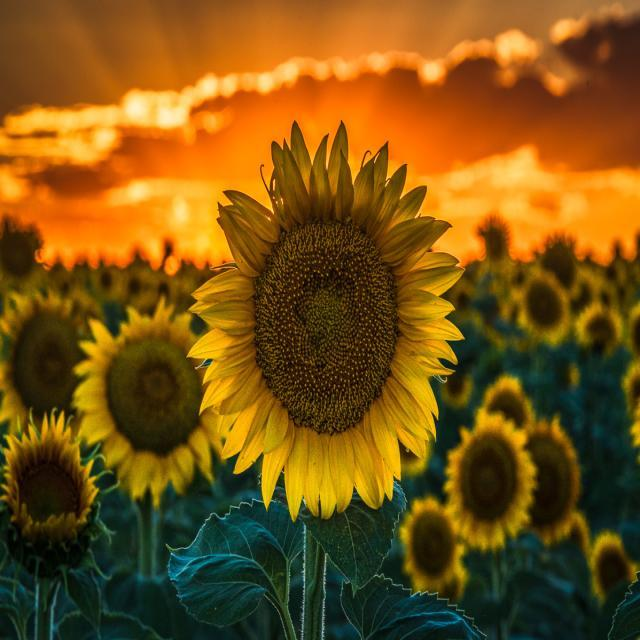sunflower: (185, 118, 466, 522), (70, 294, 224, 508), (0, 286, 97, 436), (0, 407, 99, 550), (443, 408, 538, 551), (522, 416, 582, 546), (398, 496, 467, 602), (513, 269, 570, 345), (588, 530, 636, 602), (481, 374, 534, 431), (576, 302, 622, 356), (394, 416, 432, 476), (476, 210, 512, 260), (541, 236, 576, 286), (622, 358, 640, 448), (566, 270, 594, 314), (439, 371, 471, 408), (122, 268, 150, 308), (148, 272, 177, 310), (446, 278, 474, 315), (91, 266, 122, 298), (626, 302, 640, 356), (594, 277, 616, 310), (52, 270, 77, 298), (604, 259, 624, 286), (614, 276, 632, 302)
